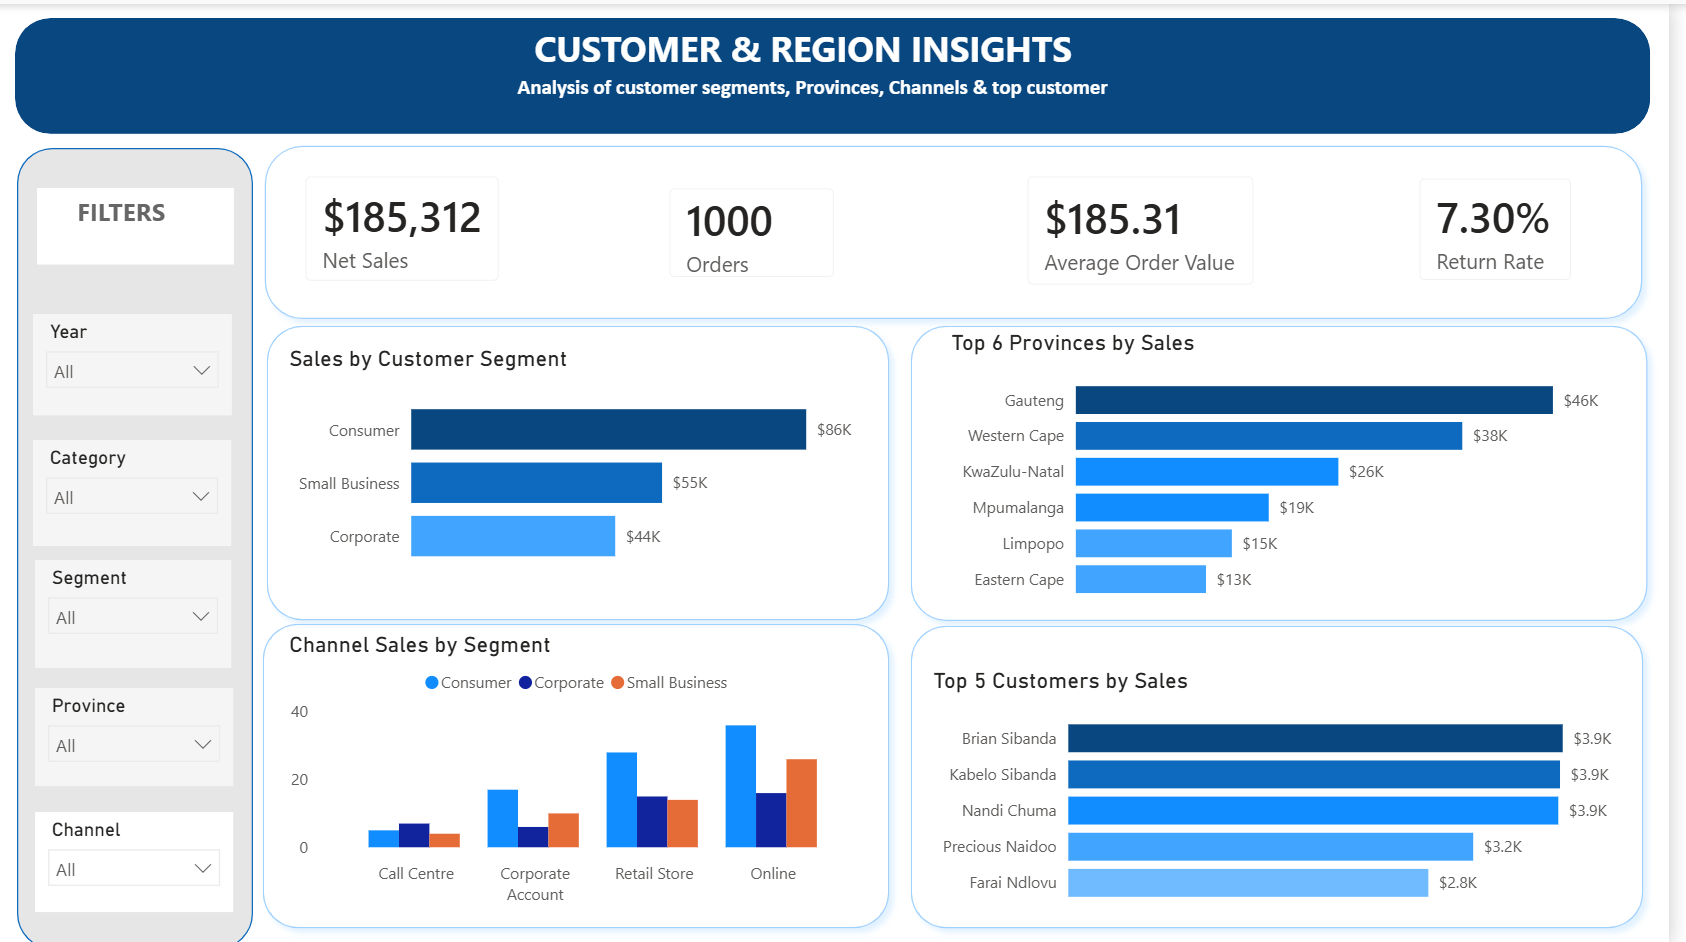

What the dashboard file says about the page in this screenshot:
{"tool":"powerbi","page":{"name":"Customer & Region Insights","canvas":[1280,720],"ordinal":3},"visuals":[{"type":"textbox","box":[9.5,0,545.3,56.8],"z":0},{"type":"cardVisual","fields":{"Data":["Fact_Sales.Net Sales Display"]},"box":[9.5,138.2,191.2,107.9],"z":1000},{"type":"cardVisual","fields":{"Data":["Fact_Sales.Orders Display"]},"box":[365.4,138.2,183.7,107.9],"z":2000},{"type":"cardVisual","fields":{"Data":["Fact_Sales.Average Order Value Display"]},"box":[664.6,138.2,265.1,106],"z":3000},{"type":"cardVisual","fields":{"Data":["Fact_Sales.Return Rate"]},"box":[1041.4,138.2,200.7,107.9],"z":4000},{"type":"textbox","box":[0,56.8,640,28.4],"z":5000},{"type":"slicer","fields":{"Values":["Dim_Date.Year"]},"box":[9.5,85.2,191.2,53],"z":6000},{"type":"slicer","fields":{"Values":["Dim_Product.Category"]},"box":[236.7,85.2,221.5,53],"z":7000},{"type":"slicer","fields":{"Values":["Dim_Customer.Province"]},"box":[717.6,85.2,212.1,68.2],"z":8000},{"type":"slicer","fields":{"Values":["Fact_Sales.Channel"]},"box":[1024.4,85.2,232.9,53],"z":9000},{"type":"slicer","fields":{"Values":["Dim_Customer.Segment"]},"box":[515,85.2,189.3,66.3],"z":10000},{"type":"clusteredBarChart","title":"Net Sales by Customer Segment","fields":{"Category":["Dim_Customer.Segment"],"Y":["Fact_Sales.Net Sales"]},"box":[9.5,246.2,545.3,200.7],"z":11000},{"type":"clusteredBarChart","title":"Top 6 Net Sales by Province","fields":{"Category":["Dim_Customer.Province"],"Y":["Fact_Sales.Net Sales"]},"box":[598.3,229.1,643.8,200.7],"z":12000},{"type":"columnChart","title":"Channel Sales by Segment","fields":{"Category":["Dim_Customer.Segment"],"Y":["Fact_Sales.Net Sales"],"Series":["Fact_Sales.Channel"]},"box":[9,475,545,244],"z":13000},{"type":"clusteredBarChart","title":"Top 10 Customers by Net Sales","fields":{"Category":["Dim_Customer.Customer_Name"],"Y":["Fact_Sales.Net Sales"]},"box":[598.3,429.8,643.8,291.6],"z":14000}]}

Visuals, with their boxes in screenshot pixels (x1, y1, x2, y2), scaled from the page's 1280x720 canvas onto the 1686x942 screenshot:
textbox: bbox=(13, 0, 731, 74)
cardVisual - Fact_Sales.Net Sales Display: bbox=(13, 181, 264, 322)
cardVisual - Fact_Sales.Orders Display: bbox=(481, 181, 723, 322)
cardVisual - Fact_Sales.Average Order Value Display: bbox=(875, 181, 1225, 319)
cardVisual - Fact_Sales.Return Rate: bbox=(1372, 181, 1636, 322)
textbox: bbox=(0, 74, 843, 111)
slicer - Dim_Date.Year: bbox=(13, 111, 264, 181)
slicer - Dim_Product.Category: bbox=(312, 111, 604, 181)
slicer - Dim_Customer.Province: bbox=(945, 111, 1225, 201)
slicer - Fact_Sales.Channel: bbox=(1349, 111, 1656, 181)
slicer - Dim_Customer.Segment: bbox=(678, 111, 928, 198)
"Net Sales by Customer Segment" clusteredBarChart: bbox=(13, 322, 731, 585)
"Top 6 Net Sales by Province" clusteredBarChart: bbox=(788, 300, 1636, 562)
"Channel Sales by Segment" columnChart: bbox=(12, 621, 730, 941)
"Top 10 Customers by Net Sales" clusteredBarChart: bbox=(788, 562, 1636, 941)
